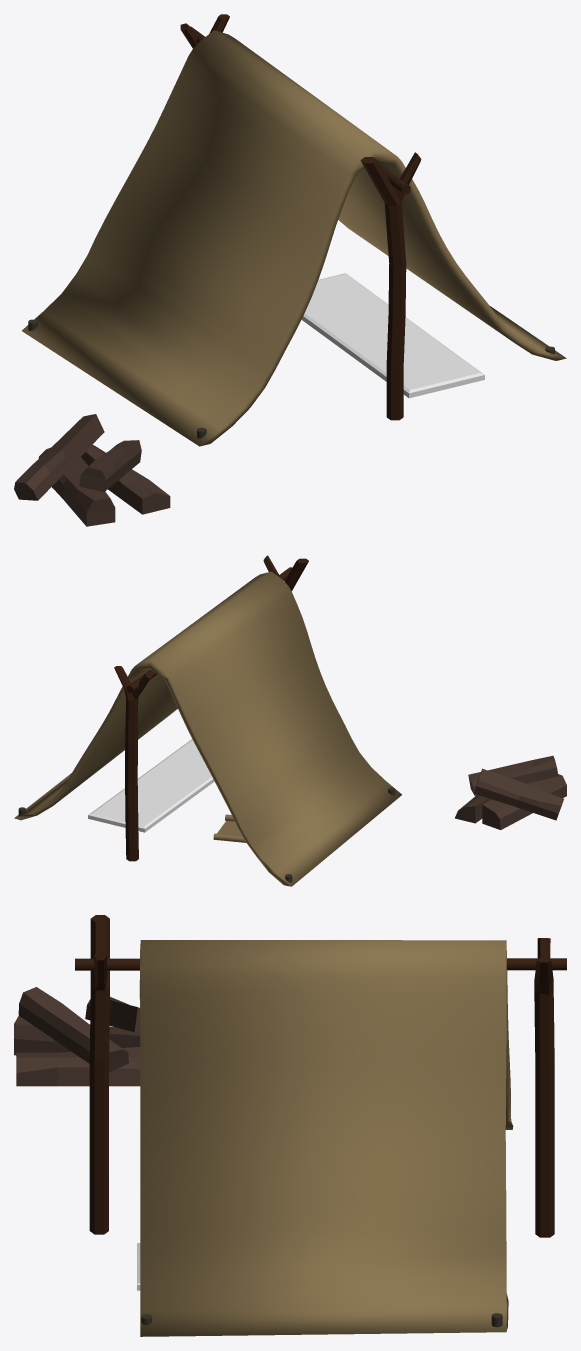
File: Campfire.fbx
The picture shows the model from 3 angles, top to bottom: view 1: azimuth 30°, elevation 25°; view 2: azimuth 150°, elevation 25°; view 3: azimuth 270°, elevation 25°; orthographic projection. The views are drawn at different scales.
Visible parts, largest first — view 1: Plane, Plane.001, Cylinder.002, Cube.003, Cube.001, Cube, Cube.002; view 2: Plane, Plane.001, Cylinder.003, Cube.003, Cube.001, Cube.002, Cube, Cylinder.002, Cylinder; view 3: Plane, Cylinder.002, Cylinder.003, Cube, Cube.002, Cube.001, Cylinder.001, Cube.003.
Boxes of the visible parts, x1,y1,x2,y2 form: Plane: (21, 30, 566, 446); Plane.001: (301, 273, 484, 398); Cylinder.002: (360, 152, 421, 420); Cube.003: (14, 414, 104, 500); Cube.001: (38, 447, 115, 526); Cube: (81, 444, 170, 514); Cube.002: (79, 440, 141, 492); Plane: (14, 571, 401, 886); Plane.001: (88, 739, 214, 832); Cylinder.003: (114, 666, 151, 861); Cube.003: (474, 768, 563, 820); Cube.001: (482, 774, 566, 829); Cube.002: (468, 755, 558, 795); Cube: (455, 795, 491, 823); Cylinder.002: (263, 555, 308, 590); Cylinder: (213, 814, 245, 842); Plane: (139, 940, 513, 1336); Cylinder.002: (89, 915, 109, 1234); Cylinder.003: (534, 938, 554, 1237); Cube: (16, 1047, 140, 1086); Cube.002: (18, 987, 128, 1072); Cube.001: (14, 1016, 140, 1055); Cylinder.001: (75, 958, 566, 970); Cube.003: (85, 997, 140, 1032).
Size of the model in its own units: 4.04 by 1.83 by 3.02.
